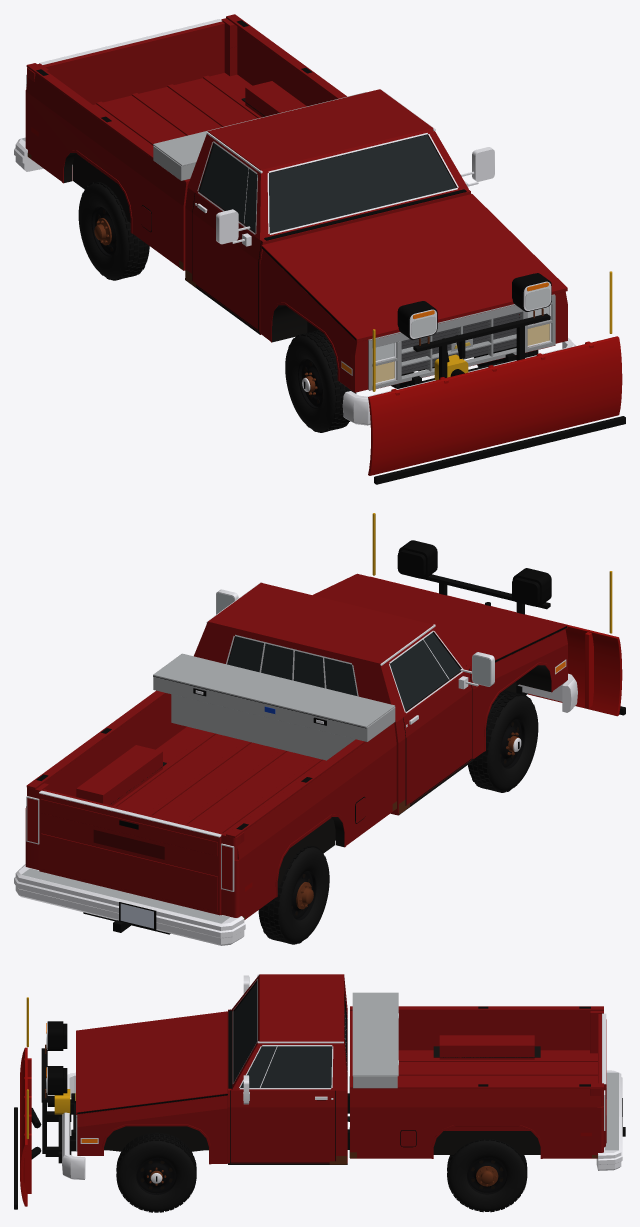
Rendered from bobs_truck.dae.
3 renders of one model, top to bottom at view 1: azimuth 30°, elevation 25°; view 2: azimuth 150°, elevation 25°; view 3: azimuth 270°, elevation 25°, orthographic. The views are drawn at different scales.
Parts seen in each view (by area): view 1: bt_body_front, bt_bed, bt_plowblade, bt_body_cab, bt_glass, bt_tailgate, bt_plowmount, bt_tire_FR, bt_tire_RR, bt_toolbox, bt_bumper_F, bt_wheel_RR (+1 smaller); view 2: bt_bed, bt_body_cab, bt_tailgate, bt_toolbox, bt_body_front, bt_bumper_R, bt_glass, bt_plowblade, bt_tire_FR, bt_tire_RR, bt_plowmount, bt_wheel_FR (+2 smaller); view 3: bt_bed, bt_body_front, bt_body_cab, bt_glass, bt_toolbox, bt_tire_FL, bt_tire_RL, bt_plowmount, bt_plowblade, bt_bumper_R, bt_bumper_F, bt_wheel_FL (+3 smaller).
Part boxes in pixels (x1,y1,x2,y2): bt_body_front: (260, 194, 567, 392); bt_bed: (25, 14, 346, 270); bt_plowblade: (368, 271, 625, 484); bt_body_cab: (185, 89, 494, 334); bt_glass: (199, 134, 456, 233); bt_tailgate: (39, 19, 224, 104); bt_plowmount: (397, 273, 551, 380); bt_tire_FR: (285, 330, 356, 432); bt_tire_RR: (78, 182, 149, 280); bt_toolbox: (153, 92, 366, 180); bt_bumper_F: (342, 338, 576, 425); bt_wheel_RR: (91, 206, 116, 256); bt_bed: (25, 690, 396, 919); bt_body_cab: (194, 582, 494, 815); bt_tailgate: (39, 789, 223, 915); bt_toolbox: (153, 653, 395, 760); bt_body_front: (312, 573, 567, 758); bt_bumper_R: (14, 864, 245, 945); bt_glass: (228, 632, 460, 711); bt_plowblade: (370, 513, 625, 716); bt_tire_FR: (468, 690, 538, 792); bt_tire_RR: (258, 846, 329, 944); bt_plowmount: (397, 540, 551, 695); bt_wheel_FR: (500, 719, 525, 768); bt_bed: (350, 1006, 605, 1158); bt_body_front: (75, 1011, 227, 1164); bt_body_cab: (228, 974, 347, 1164); bt_glass: (234, 982, 345, 1087); bt_toolbox: (352, 992, 398, 1088); bt_tire_FL: (116, 1132, 196, 1212); bt_tire_RL: (447, 1139, 527, 1212); bt_plowmount: (41, 1021, 71, 1163); bt_plowblade: (14, 997, 41, 1209); bt_bumper_R: (596, 1070, 625, 1170); bt_bumper_F: (62, 1072, 85, 1179); bt_wheel_FL: (136, 1158, 176, 1194).
Bounding box in the file's own units: 2.56 × 6.18 × 1.85.
